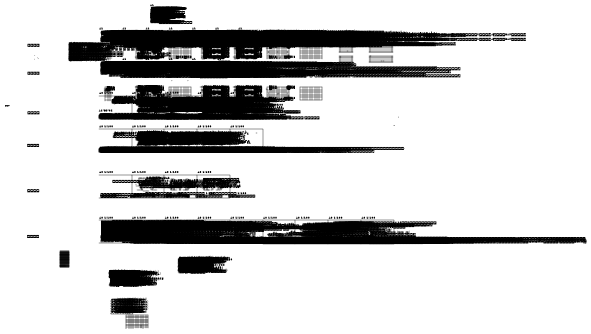corridor: (148, 305, 149, 309), (158, 300, 159, 304), (178, 305, 179, 309), (212, 298, 213, 302), (158, 306, 159, 309), (212, 305, 213, 308), (507, 297, 507, 300)
room: (321, 264, 332, 269), (175, 105, 180, 109), (507, 297, 511, 300), (166, 97, 169, 100), (344, 271, 348, 273), (267, 306, 269, 309), (176, 106, 179, 108), (200, 220, 203, 222), (209, 185, 212, 187), (258, 185, 261, 187), (307, 185, 310, 187), (148, 305, 149, 309), (216, 299, 218, 301), (321, 272, 323, 274), (175, 107, 177, 109), (156, 53, 158, 55), (269, 63, 271, 65), (273, 63, 275, 65), (278, 63, 280, 65), (282, 63, 284, 65), (158, 300, 159, 304), (217, 305, 219, 307), (145, 301, 148, 302), (158, 306, 159, 309), (159, 297, 162, 298), (212, 305, 213, 308), (192, 138, 195, 139), (250, 220, 253, 221), (241, 138, 244, 139), (299, 220, 302, 221), (195, 300, 197, 301), (195, 297, 197, 298), (195, 299, 197, 300), (195, 298, 197, 299), (185, 308, 187, 309), (185, 307, 187, 308), (182, 308, 184, 309), (182, 306, 184, 307), (250, 297, 252, 298), (321, 265, 323, 266), (322, 267, 324, 268), (322, 268, 324, 269), (276, 66, 278, 67), (276, 63, 277, 65), (330, 276, 332, 277), (330, 275, 332, 276), (330, 274, 332, 275), (334, 275, 336, 276), (338, 275, 340, 276), (334, 276, 336, 277), (338, 276, 340, 277), (334, 274, 336, 275), (338, 274, 340, 275), (209, 185, 211, 186), (193, 138, 195, 139), (195, 308, 197, 309), (195, 304, 197, 305), (195, 306, 197, 307), (195, 305, 197, 306), (188, 308, 189, 309), (187, 308, 188, 309), (188, 307, 189, 308), (187, 307, 188, 308), (511, 298, 512, 299), (513, 298, 514, 299), (512, 298, 513, 299), (514, 298, 515, 299), (515, 298, 516, 299), (511, 299, 512, 300), (513, 299, 514, 300), (512, 299, 513, 300), (514, 299, 515, 300), (515, 299, 516, 300), (506, 296, 507, 297), (508, 298, 509, 299), (513, 297, 514, 298), (512, 297, 513, 298), (514, 297, 515, 298), (515, 297, 516, 298), (511, 297, 512, 298), (149, 301, 150, 302), (151, 301, 152, 302), (150, 301, 151, 302), (152, 301, 153, 302), (153, 301, 154, 302), (144, 301, 145, 302), (147, 301, 148, 302), (212, 297, 213, 298), (222, 301, 223, 302), (220, 301, 221, 302), (219, 301, 220, 302), (221, 301, 222, 302), (219, 298, 220, 299), (323, 274, 324, 275), (324, 274, 325, 275), (325, 274, 326, 275), (321, 272, 322, 273), (327, 274, 328, 275), (323, 275, 324, 276), (324, 275, 325, 276), (325, 275, 326, 276), (327, 275, 328, 276), (323, 276, 324, 277), (324, 276, 325, 277), (325, 276, 326, 277), (327, 276, 328, 277), (323, 271, 324, 272), (324, 271, 325, 272), (321, 264, 322, 265), (321, 267, 322, 268), (321, 268, 322, 269), (177, 107, 178, 108), (176, 107, 177, 108), (275, 66, 276, 67), (157, 305, 158, 306), (328, 276, 329, 277), (329, 276, 330, 277), (332, 276, 333, 277), (328, 275, 329, 276), (329, 275, 330, 276), (332, 275, 333, 276), (328, 274, 329, 275), (329, 274, 330, 275), (325, 271, 326, 272), (332, 274, 333, 275), (333, 274, 334, 275), (333, 275, 334, 276), (336, 275, 337, 276), (337, 275, 338, 276), (340, 275, 341, 276), (333, 276, 334, 277), (336, 276, 337, 277), (337, 276, 338, 277), (340, 276, 341, 277), (336, 274, 337, 275), (337, 274, 338, 275), (325, 272, 326, 273), (327, 272, 328, 273), (328, 272, 329, 273), (163, 297, 164, 298), (164, 297, 165, 298), (165, 297, 166, 298), (166, 297, 167, 298), (167, 297, 168, 298), (157, 297, 158, 298), (158, 297, 159, 298), (161, 297, 162, 298), (212, 304, 213, 305), (221, 307, 222, 308), (219, 307, 220, 308), (220, 307, 221, 308), (222, 307, 223, 308), (201, 220, 202, 221), (163, 220, 164, 221), (160, 186, 161, 187), (187, 308, 187, 309), (185, 308, 185, 309), (178, 305, 179, 305), (188, 309, 189, 309), (187, 309, 187, 309), (185, 309, 185, 309), (185, 309, 187, 309), (187, 309, 188, 309), (187, 307, 187, 308), (185, 307, 185, 308), (516, 298, 516, 299), (511, 299, 512, 299), (513, 299, 514, 299), (512, 299, 513, 299), (514, 299, 515, 299), (515, 299, 516, 299), (516, 299, 516, 299), (516, 299, 516, 300), (511, 300, 512, 300), (513, 300, 514, 300), (512, 300, 513, 300), (514, 300, 515, 300), (515, 300, 516, 300), (516, 300, 516, 300), (511, 298, 512, 298), (513, 298, 514, 298), (512, 298, 513, 298), (514, 298, 515, 298), (515, 298, 516, 298), (516, 298, 516, 298), (516, 297, 516, 298), (149, 301, 150, 301), (151, 301, 152, 301), (150, 301, 151, 301), (152, 301, 152, 301), (152, 301, 153, 301), (153, 301, 154, 301), (144, 300, 144, 301), (152, 301, 152, 302), (144, 301, 144, 302), (513, 297, 514, 297), (512, 297, 513, 297), (514, 297, 515, 297), (515, 297, 516, 297), (516, 297, 516, 297), (222, 301, 223, 301), (221, 301, 222, 301), (220, 301, 221, 301), (219, 301, 220, 301), (219, 301, 219, 301), (219, 301, 219, 302), (222, 300, 223, 300), (221, 300, 222, 300), (220, 300, 221, 300), (219, 300, 220, 300), (219, 300, 219, 300), (321, 273, 322, 273), (321, 266, 322, 266), (324, 266, 325, 266), (325, 266, 326, 266), (328, 266, 329, 266), (330, 266, 331, 266), (321, 267, 322, 267), (322, 267, 324, 267), (321, 269, 322, 269), (322, 269, 324, 269), (322, 266, 324, 266), (323, 277, 324, 277), (324, 277, 325, 277), (325, 277, 326, 277), (327, 277, 328, 277), (328, 277, 329, 277), (329, 277, 330, 277), (330, 277, 332, 277), (157, 300, 158, 300), (325, 273, 326, 273), (327, 273, 328, 273), (328, 273, 329, 273), (329, 273, 330, 273), (331, 273, 332, 273), (332, 273, 333, 273), (333, 273, 334, 273), (334, 273, 335, 273), (336, 273, 337, 273), (337, 273, 338, 273), (338, 273, 339, 273), (339, 273, 341, 273), (164, 297, 164, 298), (163, 298, 164, 298), (164, 298, 165, 298), (164, 298, 164, 298), (165, 298, 166, 298), (166, 298, 167, 298), (167, 298, 168, 298), (157, 297, 158, 297), (223, 307, 223, 307), (222, 307, 223, 307), (221, 307, 222, 307), (220, 307, 221, 307), (219, 307, 220, 307), (223, 307, 223, 308), (144, 138, 144, 139), (327, 266, 328, 266), (323, 275, 324, 275), (324, 275, 325, 275)
wall: (157, 266, 168, 271), (213, 273, 224, 277), (248, 265, 259, 269), (178, 269, 189, 273), (178, 265, 189, 269), (213, 269, 224, 272), (213, 265, 224, 268), (178, 274, 189, 277), (212, 302, 223, 303), (246, 296, 257, 297), (157, 304, 168, 305), (506, 300, 516, 301), (144, 92, 153, 93), (155, 92, 162, 93), (178, 305, 179, 309), (212, 298, 213, 302), (157, 300, 158, 304), (506, 297, 507, 300), (157, 306, 158, 309), (148, 307, 149, 309), (178, 107, 179, 109), (169, 108, 170, 110), (168, 108, 169, 110), (167, 105, 169, 106), (167, 107, 169, 108), (159, 274, 160, 275), (230, 274, 231, 275), (250, 275, 251, 276), (264, 275, 265, 276), (285, 271, 286, 272), (299, 275, 300, 276), (299, 267, 300, 268), (146, 275, 147, 276), (250, 266, 251, 267), (146, 269, 147, 270), (509, 107, 510, 108), (195, 274, 195, 275), (195, 267, 195, 268), (178, 310, 189, 310), (507, 297, 507, 300), (144, 302, 154, 302), (226, 297, 236, 297), (168, 97, 168, 99), (168, 100, 168, 100), (167, 101, 168, 101), (176, 109, 178, 109), (177, 108, 177, 108), (167, 109, 168, 109), (157, 310, 168, 310), (157, 299, 168, 299), (212, 308, 223, 308)
